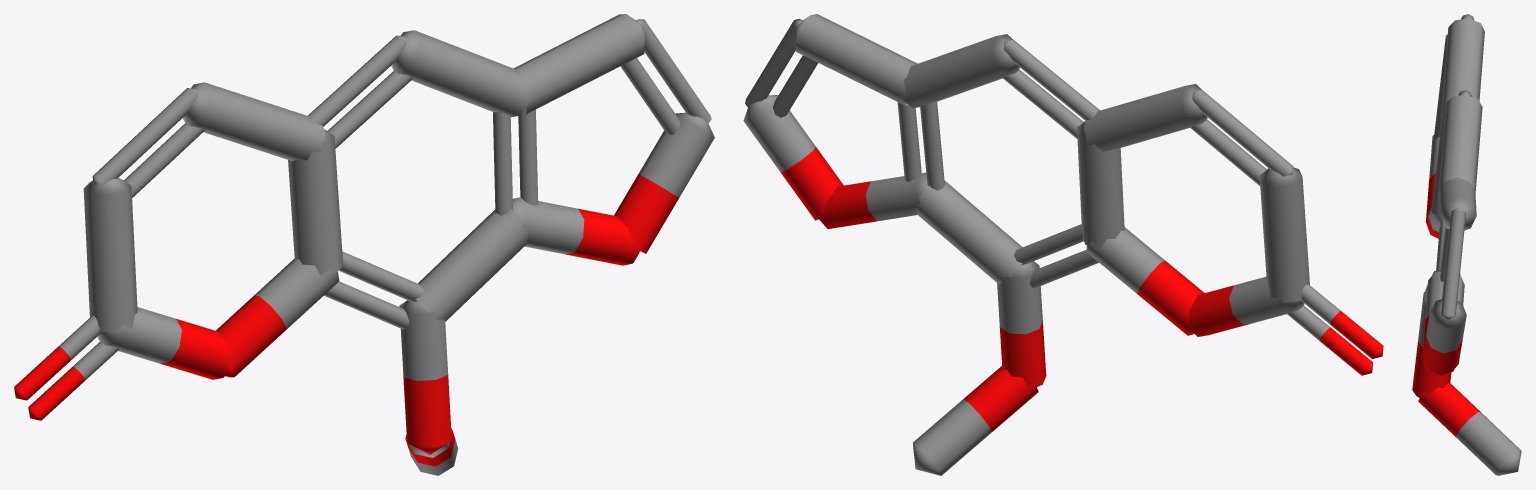
File: methox.glb
3 renders of one model, left to right at view 1: azimuth 30°, elevation 25°; view 2: azimuth 150°, elevation 25°; view 3: azimuth 270°, elevation 25°, orthographic. The views are drawn at different scales.
Visible parts, largest first — view 1: node-geom11; view 2: node-geom11; view 3: node-geom11.
Boxes of the visible parts, bbox=[...] form: node-geom11: bbox=[14, 14, 714, 475]; node-geom11: bbox=[743, 14, 1383, 475]; node-geom11: bbox=[1412, 14, 1521, 475].
Bounding box in the file's own units: 8.36 × 5.43 × 1.48.
